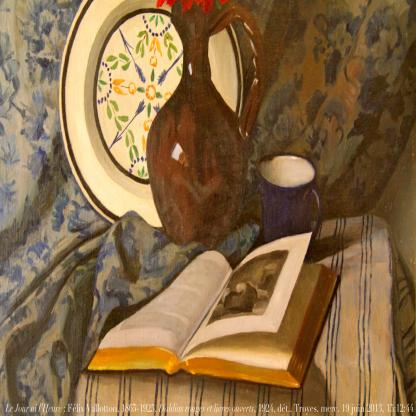book: (70, 220, 332, 384)
